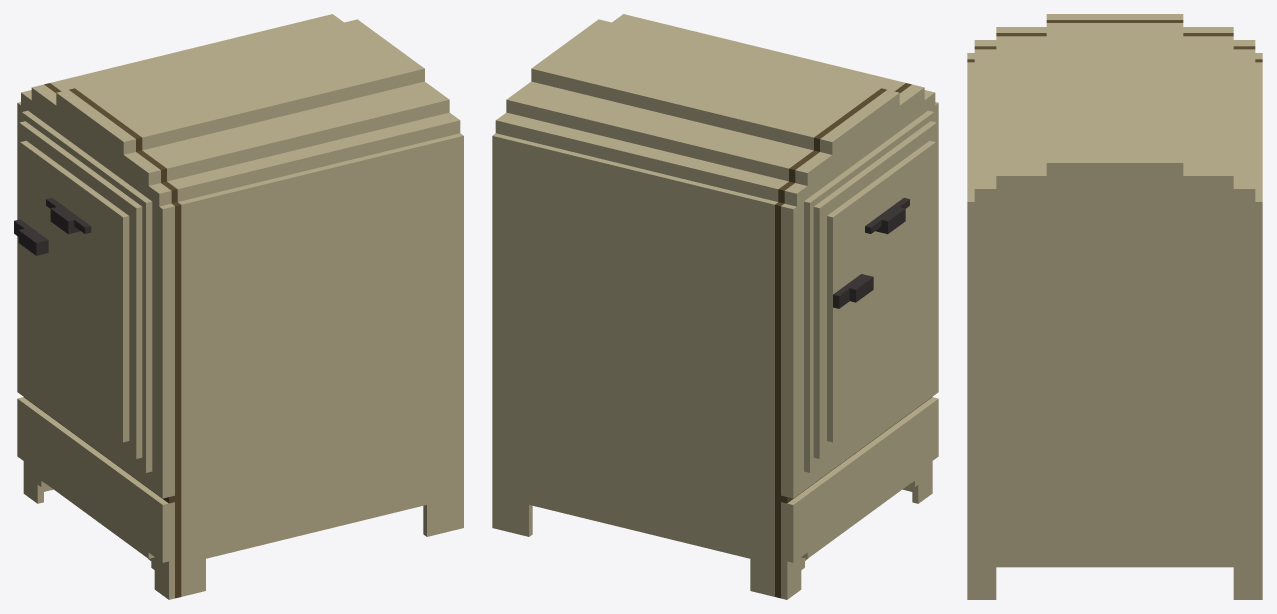
Rendered from heladera_update.fbx.
3 renders of one model, left to right at view 1: azimuth 30°, elevation 25°; view 2: azimuth 150°, elevation 25°; view 3: azimuth 270°, elevation 25°, orthographic.
Parts seen in each view (by area): view 1: heladera; view 2: heladera; view 3: heladera.
Boxes of the visible parts, x1,y1,x2,y2 form: heladera: (14, 14, 463, 599); heladera: (492, 14, 938, 599); heladera: (967, 14, 1262, 599).
Size of the model in its own units: 540 by 670 by 410.
